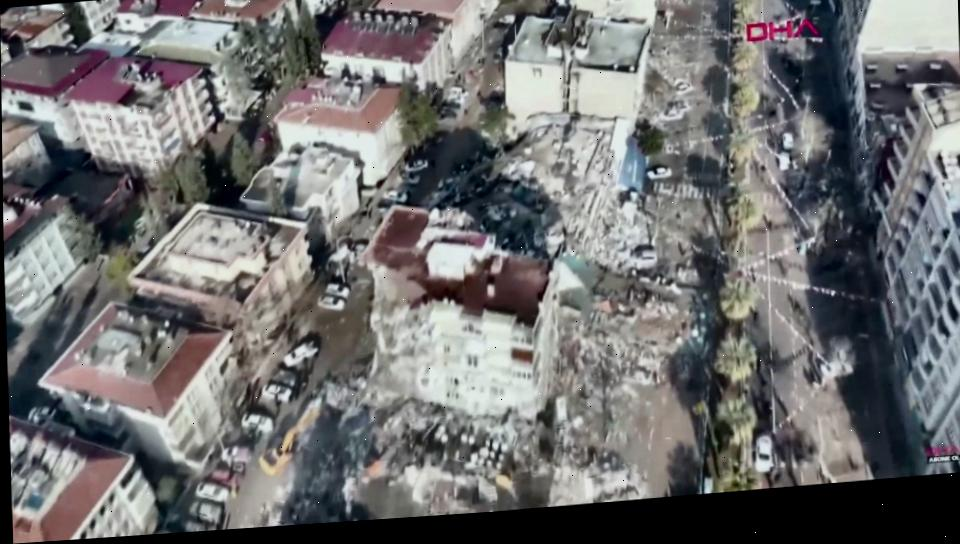kapali: (653, 0, 729, 34)
